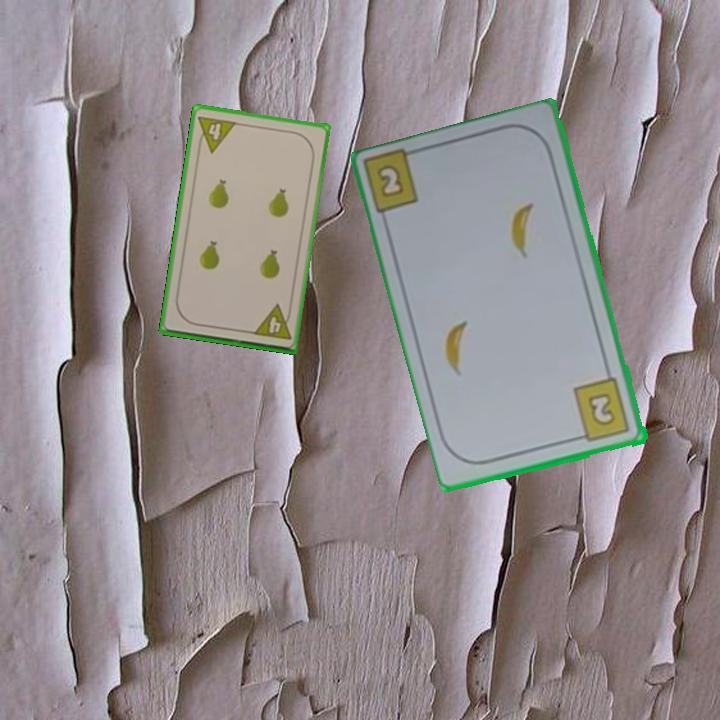2b: (570, 375, 633, 445), (373, 161, 408, 201)
4p: (193, 112, 239, 155), (249, 301, 294, 342)
